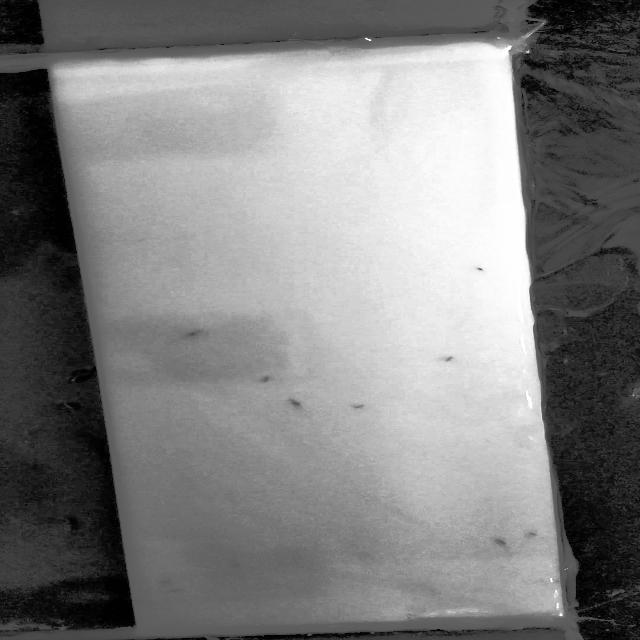shrimp: (431, 346, 466, 371), (164, 324, 212, 342), (279, 395, 316, 413), (484, 532, 512, 554), (152, 587, 199, 599), (463, 261, 488, 282), (248, 373, 284, 387), (213, 559, 250, 572), (133, 598, 155, 607), (155, 578, 177, 584)
